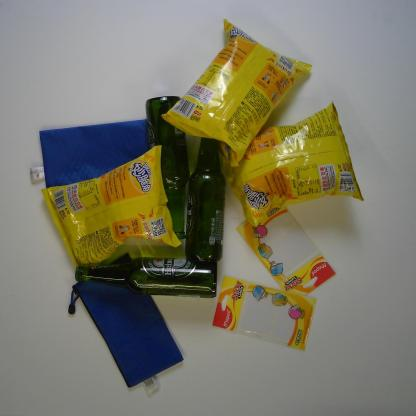Alcohol: (145, 96, 188, 240), (74, 256, 218, 299), (184, 136, 226, 263)
Puffed Food: (160, 16, 313, 167), (222, 99, 365, 228), (41, 145, 182, 268)
Stationery: (67, 252, 185, 396), (235, 205, 336, 296), (29, 118, 150, 189), (211, 276, 318, 350)
